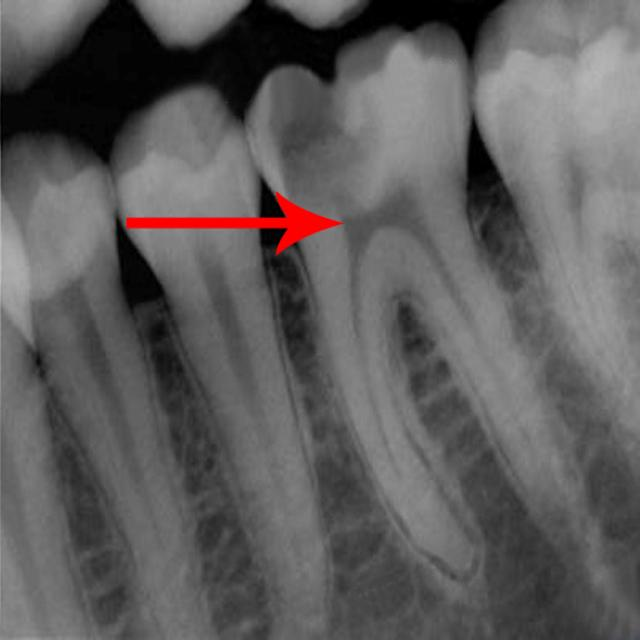Caries: (254, 22, 472, 607)
